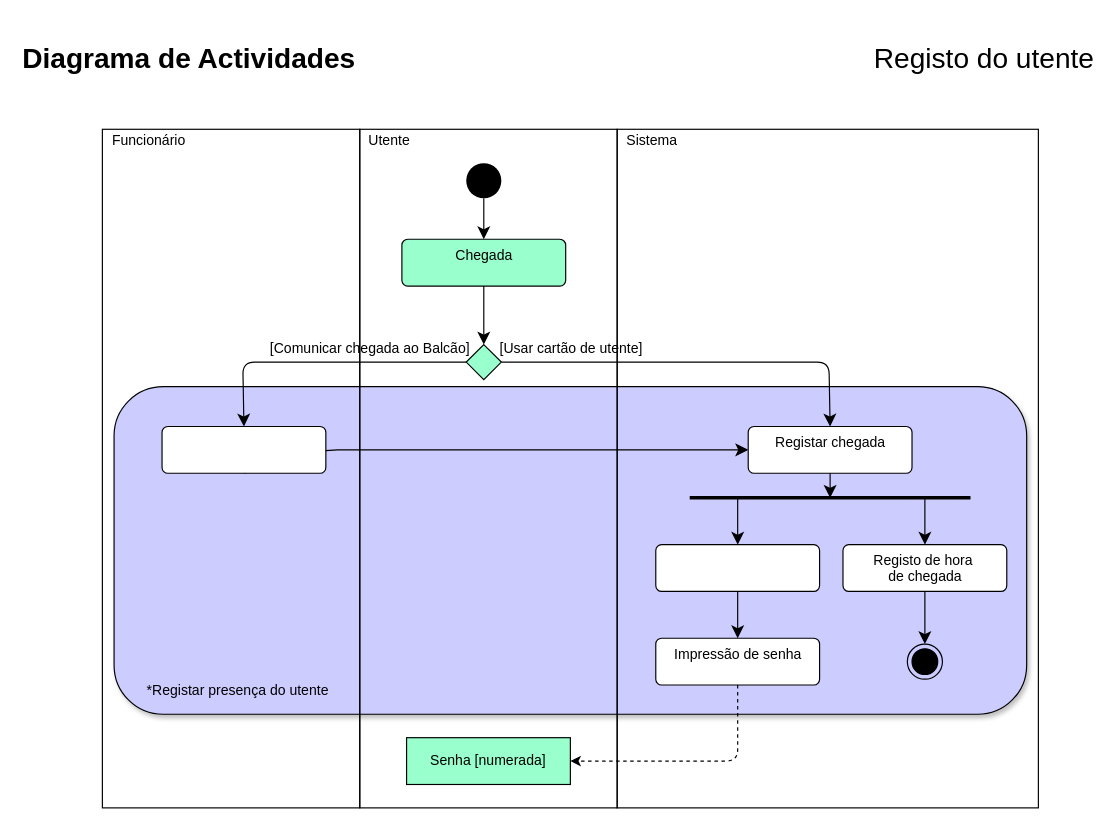
Some shapes in this 1116 by 838 pixel diagram are drawn without their labels. Each missing label, with the centre of its shape:
Atribuição de número: (x=737, y=567)
Notificacar presença do utente: (x=243, y=449)
